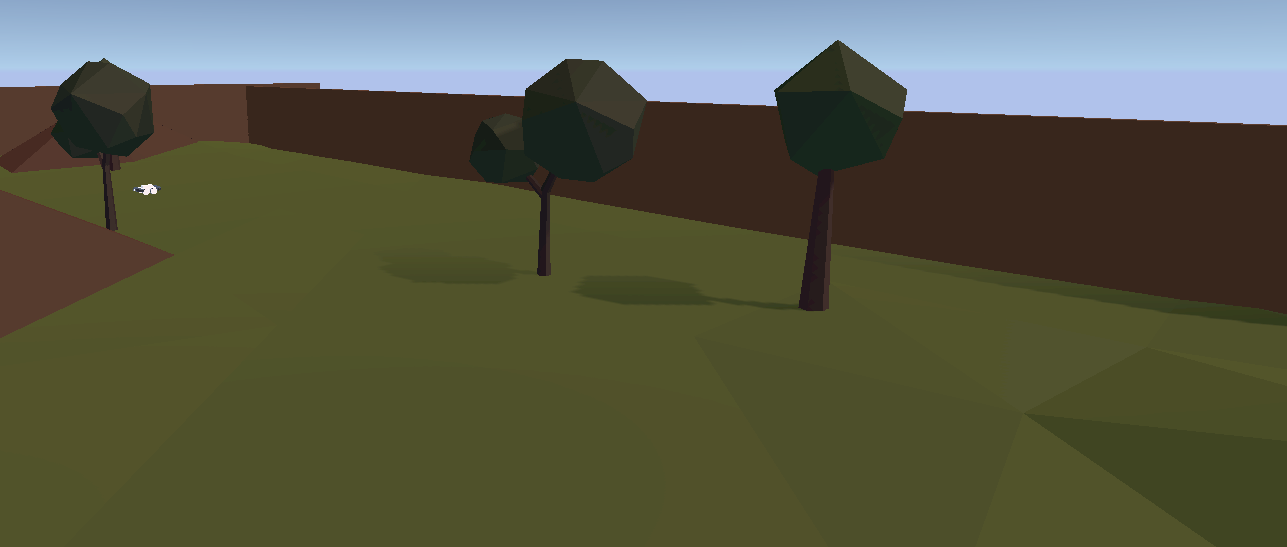tree: (465, 59, 648, 279), (776, 40, 919, 313), (53, 60, 152, 230)
